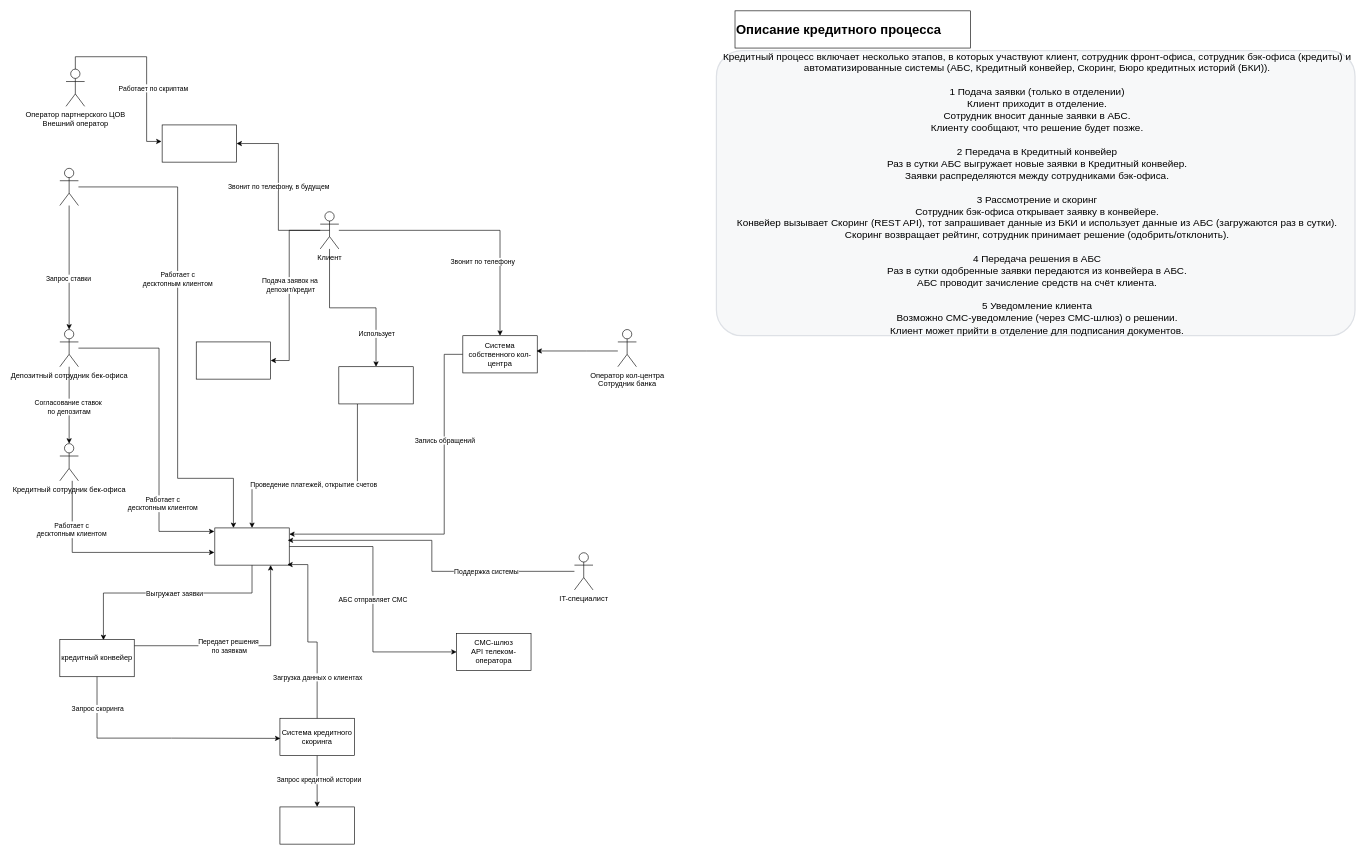
This 1366x855 diagram has some shape labels left out. The centre of each missing label's shape, as x and y in pixels:
"АБС" goes at [251,546].
"Бюро кредитных историй" goes at [316,825].
"Интернет-банк" goes at [375,385].
"Сайт" goes at [233,360].
"Система партнерского кол-центра" goes at [199,143].
"Сотрудник фронт-офиса Работник отделения" goes at [68,187].
